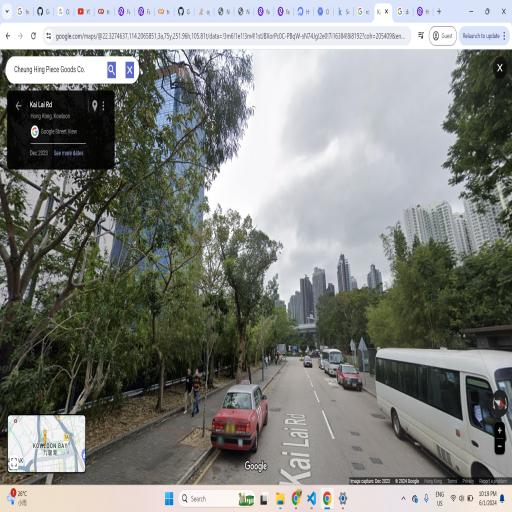Roads: (89, 332, 453, 479)
Trees: (116, 78, 238, 408), (208, 197, 266, 428)
